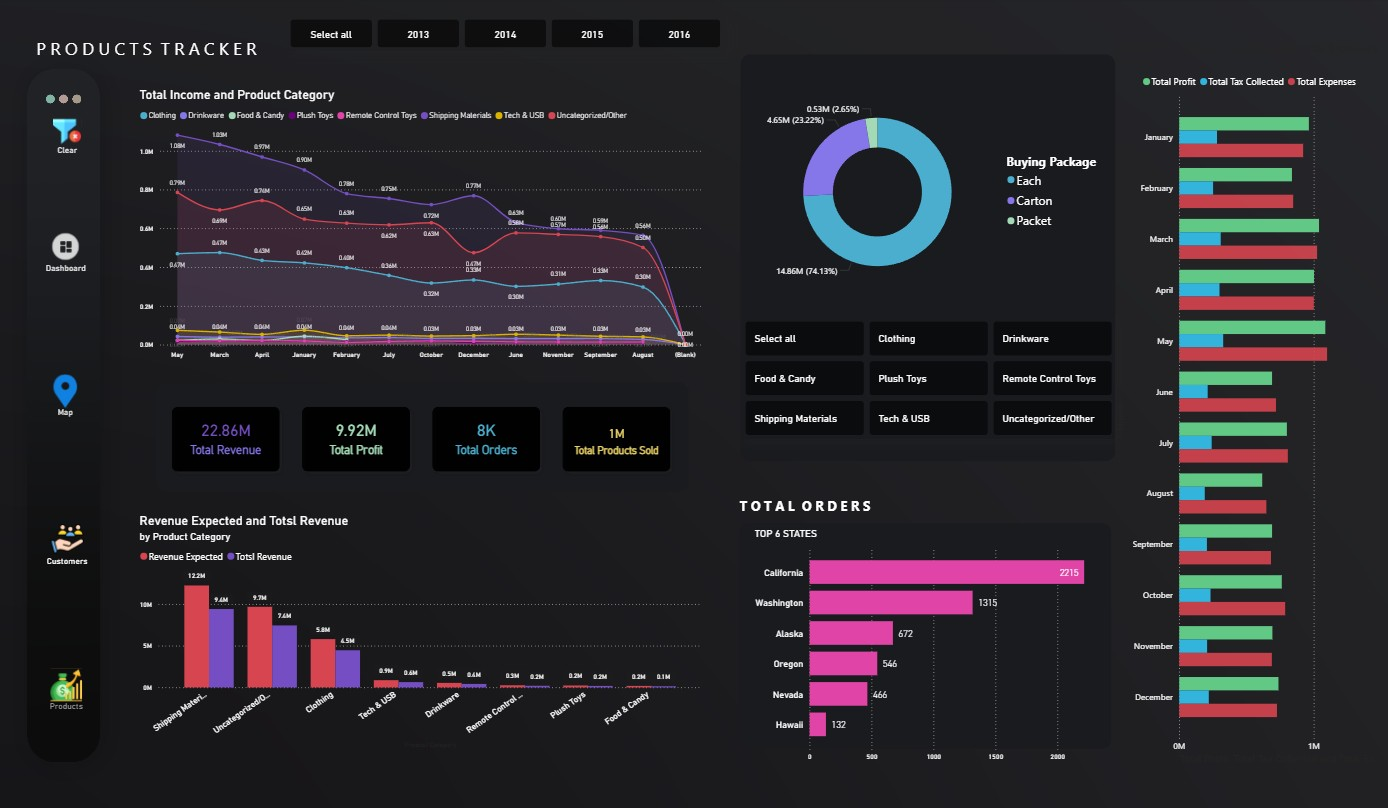

Layout of this report page (visuals, bound fields, positions):
{"tool":"powerbi","page":{"name":"Product_page","canvas":[2000,1166],"ordinal":1},"visuals":[{"type":"actionButton","box":[44.3,482.5,104.3,172.9],"z":0,"group":"g1"},{"type":"image","box":[1060,712.9,544.3,408.6],"z":0},{"type":"textbox","box":[50,50,512.5,50],"z":1000},{"type":"actionButton","box":[47.4,696.3,104.3,170],"z":1000,"group":"g1"},{"type":"image","box":[0,42.2,196.5,1123.8],"z":2000},{"type":"actionButton","box":[46,907.3,104.3,167.1],"z":2000,"group":"g1"},{"type":"group","id":"g1","title":"Group 1","box":[44.3,146,108.2,928.4],"z":3000},{"type":"actionButton","box":[44.5,281.6,105.7,160],"z":3000,"group":"g1"},{"type":"actionButton","box":[45.3,146,107.1,98.6],"z":4000,"group":"g1"},{"type":"barChart","title":"TOP 6 STATES","fields":{"Category":["DimCustomer.Customer State"],"Y":["_Measures.Total Orders"]},"box":[1078.3,753.3,525,351.7],"z":4000},{"type":"textbox","box":[1060,712.9,542.9,40],"z":5000},{"type":"image","box":[980,76,712,594],"z":6000},{"type":"lineChart","title":"Total Income and Product Category","fields":{"Category":["DimDate.Month"],"Series":["DimStockItem.Product Category"],"Y":["_Measures.Total Income"]},"box":[196,120,824,408],"z":7000},{"type":"image","box":[173.3,546.7,871.1,166.7],"z":8000},{"type":"cardVisual","fields":{"Data":["_Measures.Total Income","_Measures.Total Profit","_Measures.Total Orders","_Measures.Total Products Sold"]},"box":[232.2,570,753.3,127.8],"z":9000},{"type":"donutChart","fields":{"Category":["DimStockItem.Buying Package"],"Y":["_Measures.Target Income"]},"box":[1072.9,120,524.3,315.7],"z":10000},{"type":"advancedSlicerVisual","fields":{"Values":["DimStockItem.Product Category"]},"box":[1068,460,536,174],"z":11000},{"type":"clusteredColumnChart","fields":{"Category":["DimStockItem.Product Category"],"Y":["_Measures.Revenue RRP","_Measures.Total Income"]},"box":[196,732,824,354],"z":12000},{"type":"clusteredBarChart","fields":{"Category":["DimDate.Datex.Variation.Date Hierarchy.Year","DimDate.Datex.Variation.Date Hierarchy.Quarter","DimDate.Datex.Variation.Date Hierarchy.Month","DimDate.Datex.Variation.Date Hierarchy.Day"],"Y":["_Measures.Total Profit","_Measures.Total Tax Collected","_Measures.Total Expenses"]},"box":[1598.3,61.7,401.7,1043.3],"z":13000},{"type":"advancedSlicerVisual","fields":{"Values":["DimDate.Year"]},"box":[414.3,25.7,630,50],"z":14000}]}

Visuals, with their boxes on the page's 2000x1166 design canvas (x1, y1, x2, y2). These are canvas units, not pixel positions in the 1388x808 screenshot, which may show the page scaled, cropped or inside an application window:
actionButton: box=[44, 482, 149, 655]
image: box=[1060, 713, 1604, 1122]
textbox: box=[50, 50, 562, 100]
actionButton: box=[47, 696, 152, 866]
image: box=[0, 42, 196, 1166]
actionButton: box=[46, 907, 150, 1074]
"Group 1" group: box=[44, 146, 152, 1074]
actionButton: box=[44, 282, 150, 442]
actionButton: box=[45, 146, 152, 245]
"TOP 6 STATES" barChart: box=[1078, 753, 1603, 1105]
textbox: box=[1060, 713, 1603, 753]
image: box=[980, 76, 1692, 670]
"Total Income and Product Category" lineChart: box=[196, 120, 1020, 528]
image: box=[173, 547, 1044, 713]
cardVisual - _Measures.Total Income x _Measures.Total Profit: box=[232, 570, 986, 698]
donutChart - DimStockItem.Buying Package x _Measures.Target Income: box=[1073, 120, 1597, 436]
advancedSlicerVisual - DimStockItem.Product Category: box=[1068, 460, 1604, 634]
clusteredColumnChart - DimStockItem.Product Category x _Measures.Revenue RRP: box=[196, 732, 1020, 1086]
clusteredBarChart - DimDate.Datex.Variation.Date Hierarchy.Year x DimDate.Datex.Variation.Date Hierarchy.Quarter: box=[1598, 62, 2000, 1105]
advancedSlicerVisual - DimDate.Year: box=[414, 26, 1044, 76]
